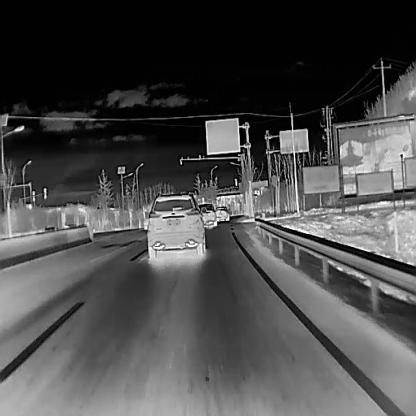car: (146, 193, 206, 258), (196, 202, 216, 228), (214, 206, 229, 220)
